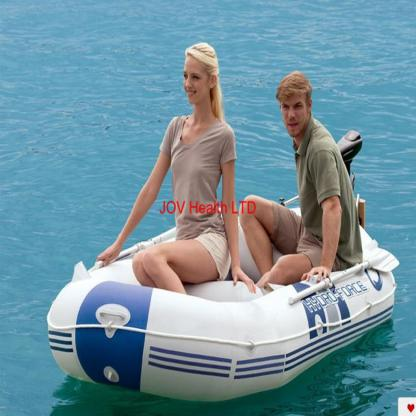face: (282, 90, 308, 137), (185, 57, 208, 107)
